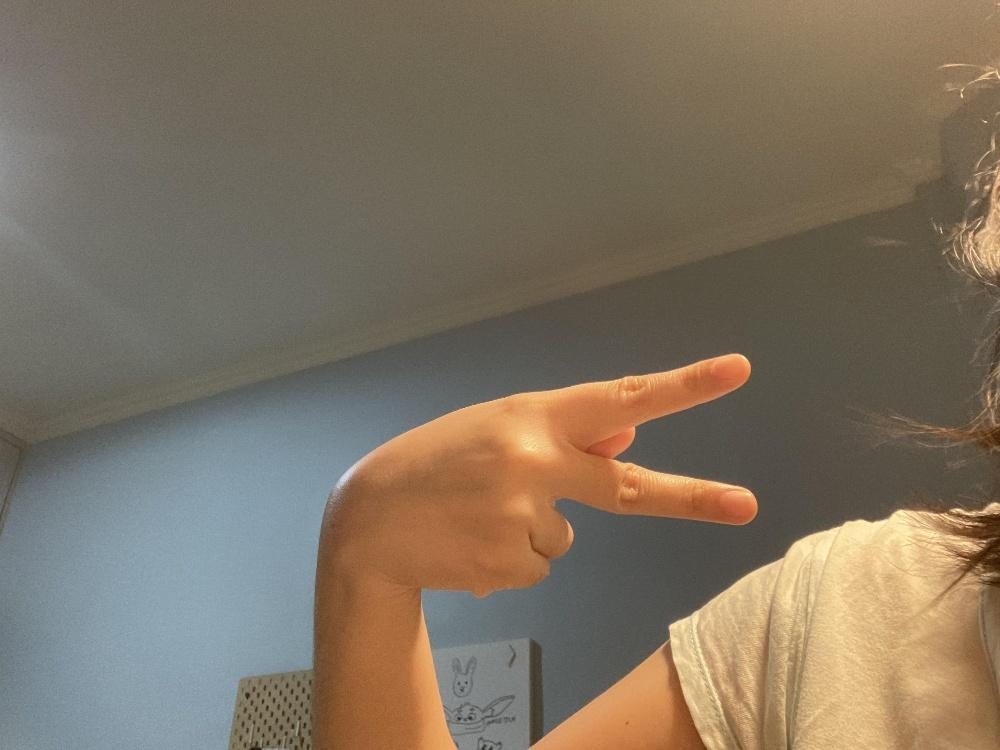k: (327, 352, 757, 597)
